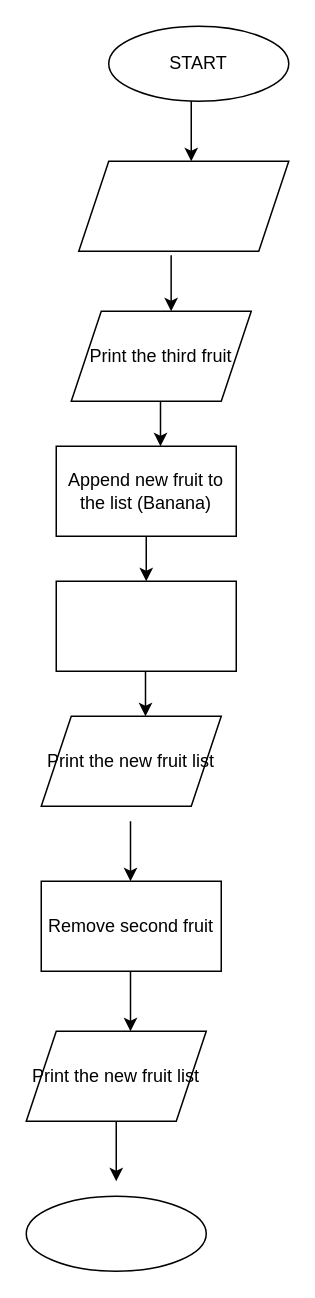
Some shapes in this 315 by 1298 pixel diagram are drawn without their labels. Each missing label, with the centre of its shape:
Append new fruit to the list (Grapes): pixel 145 625
Create list of Fruits: pixel 183 205
END: pixel 115 1233
